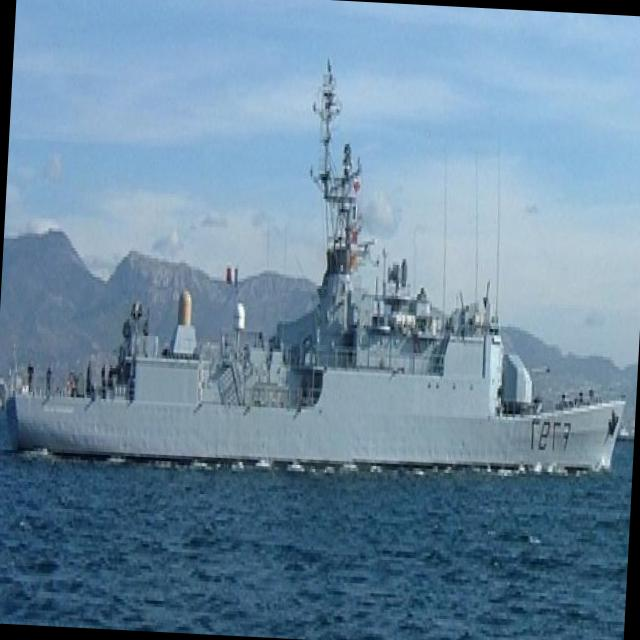Military: (9, 61, 625, 471)
